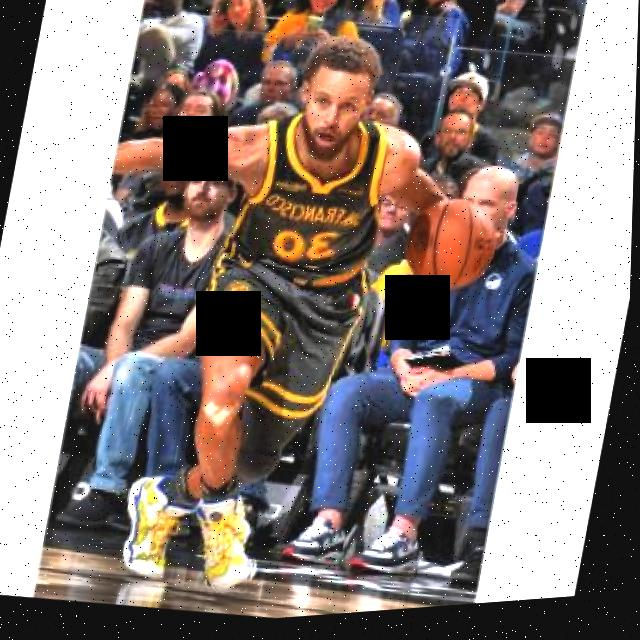shoe: (187, 486, 275, 601), (118, 471, 200, 590), (354, 521, 430, 589), (285, 511, 358, 574)
